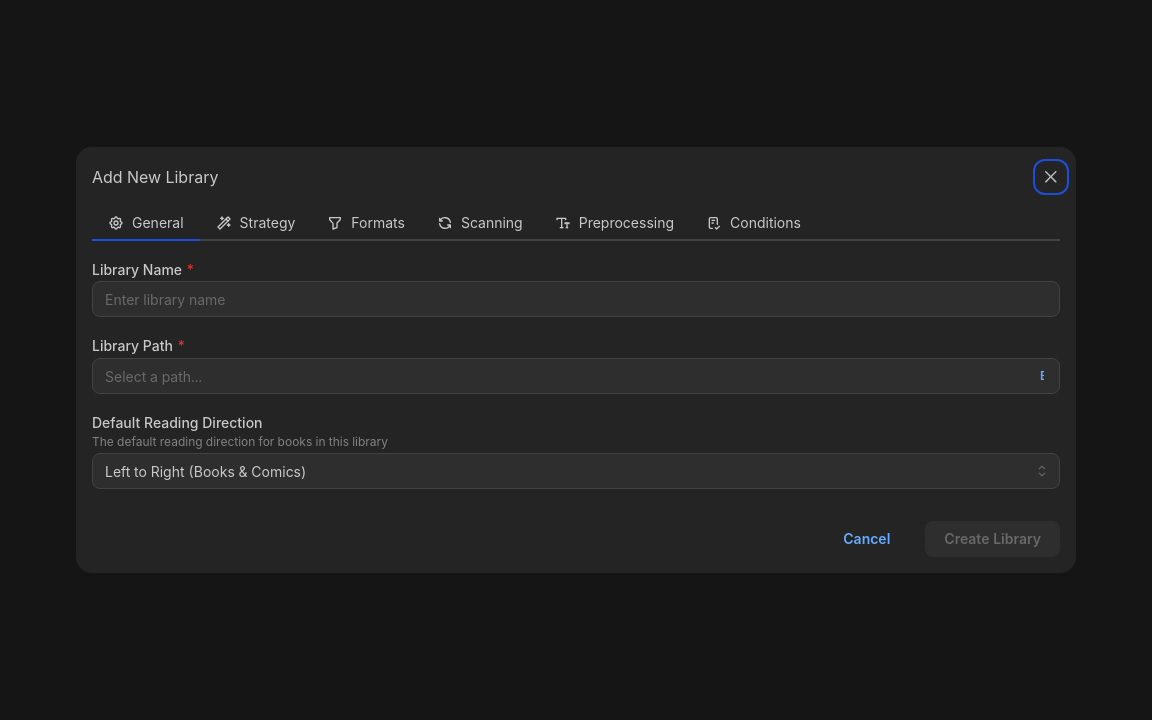
LibraryModal (Add Mode) › should browse directory when drive is selected
// Open browser
Click the button "Browse" at [1042, 376], box [1025, 361, 1059, 391]
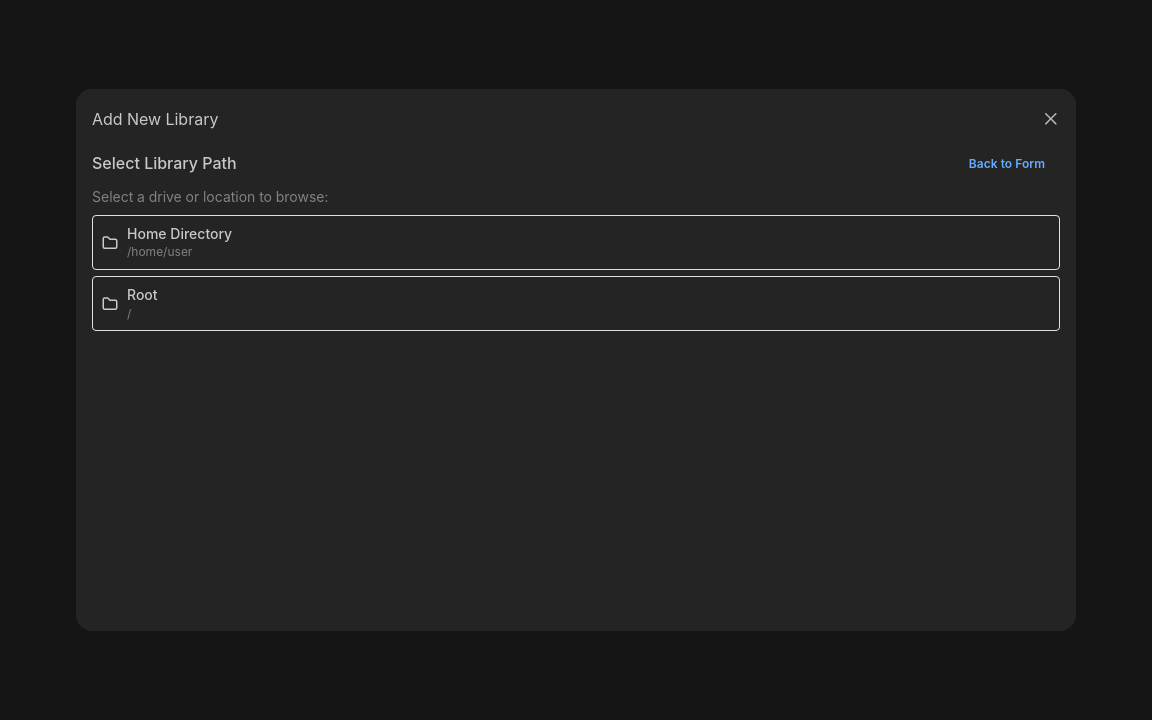
Check: the text "Home Directory" is shown
Click the text "Home Directory" at [180, 234], box [127, 224, 232, 244]
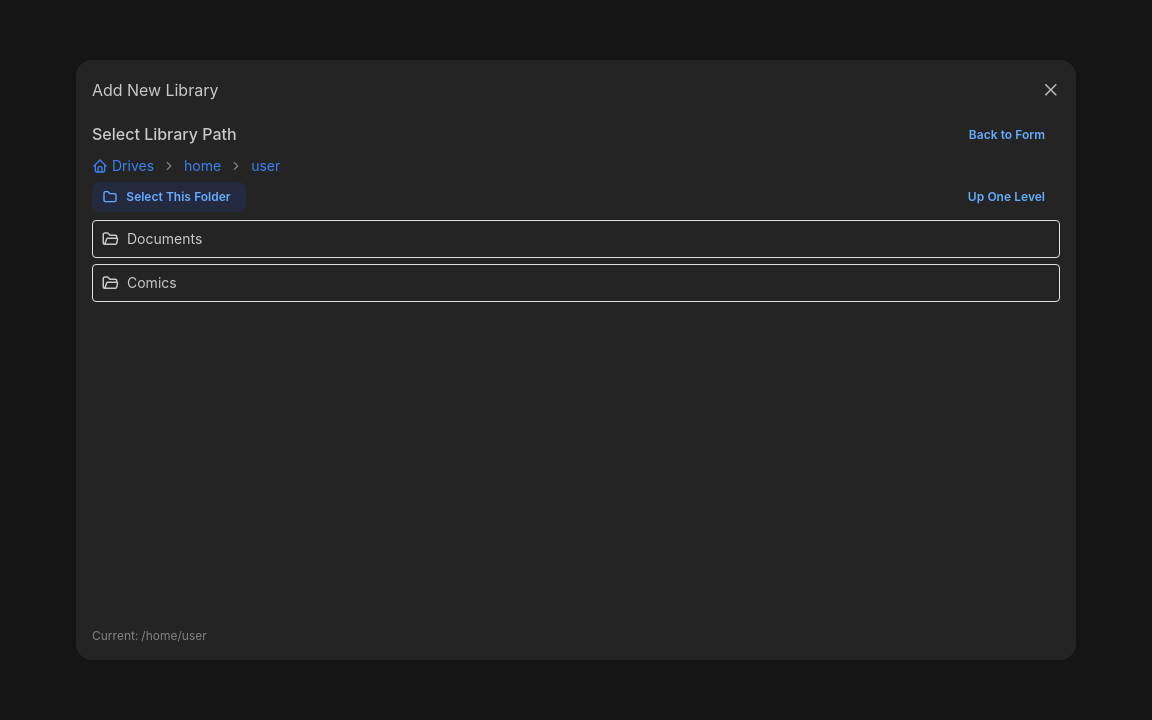
Check: the text "Documents" is shown, box [127, 229, 202, 249]
Check: the text "Comics" is shown, box [127, 273, 177, 293]
